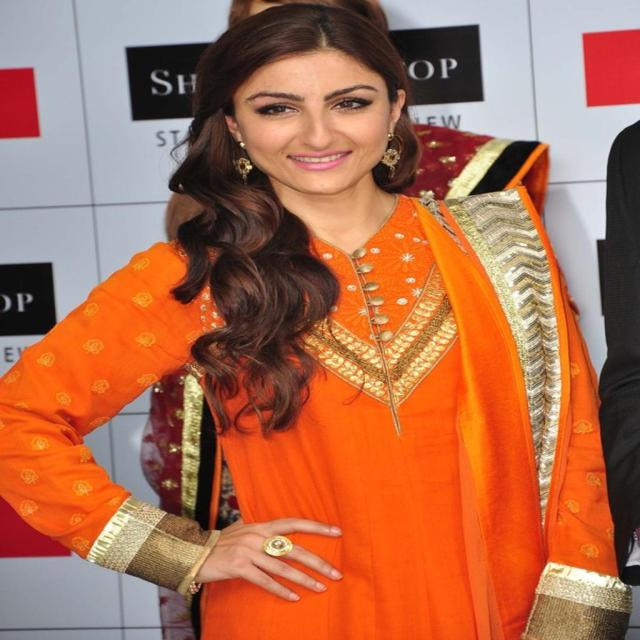Face: (231, 52, 427, 204)
